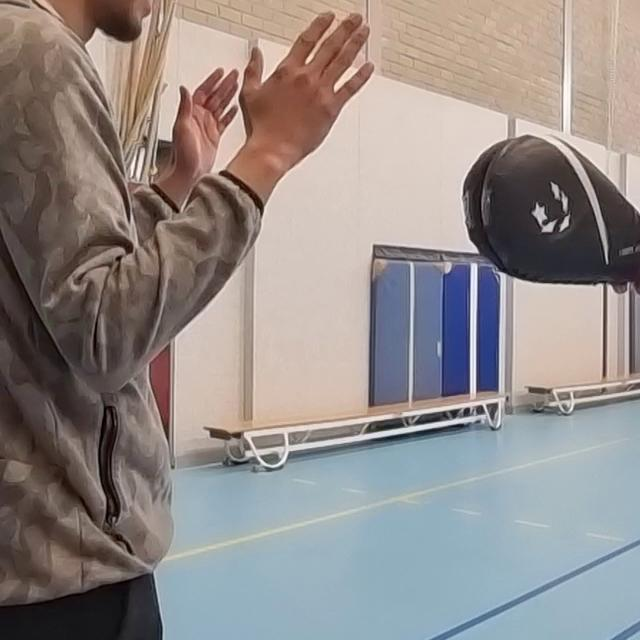paddle: (471, 138, 640, 289)
